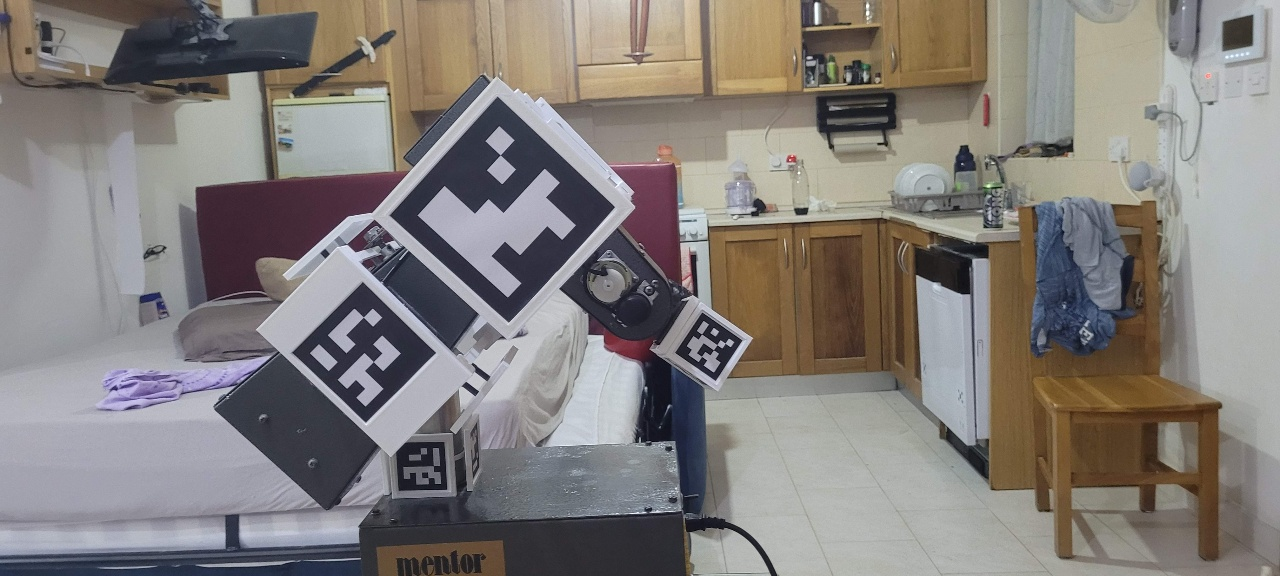Robot: (212, 71, 757, 513)
